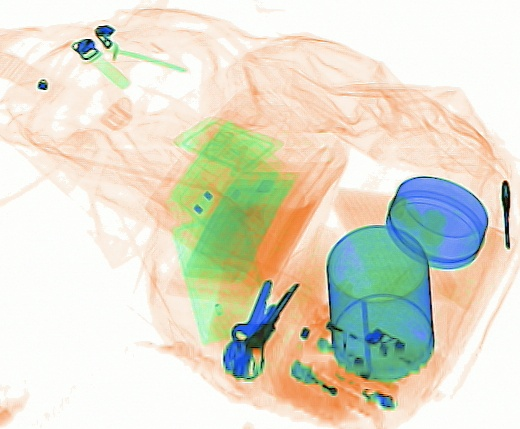lighter: (280, 293, 385, 365), (286, 359, 380, 419)
